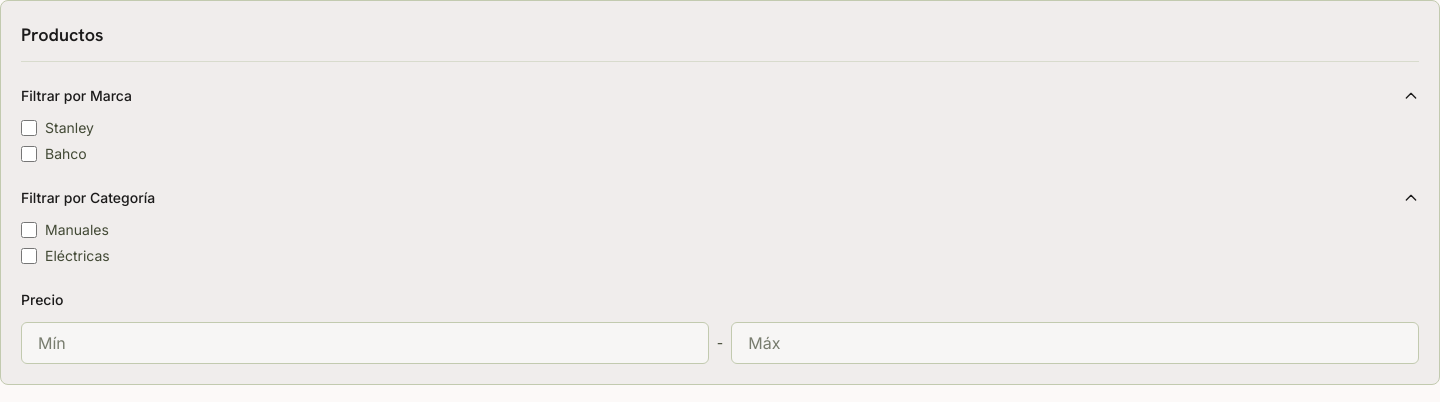
it: Filtrado › puede colapsar/expandir sección de marcas
Expected: the text "Stanley" is shown, [21,119,94,136]
Click the button "Filtrar por Marca": click(77, 96) [21,86,1419,106]
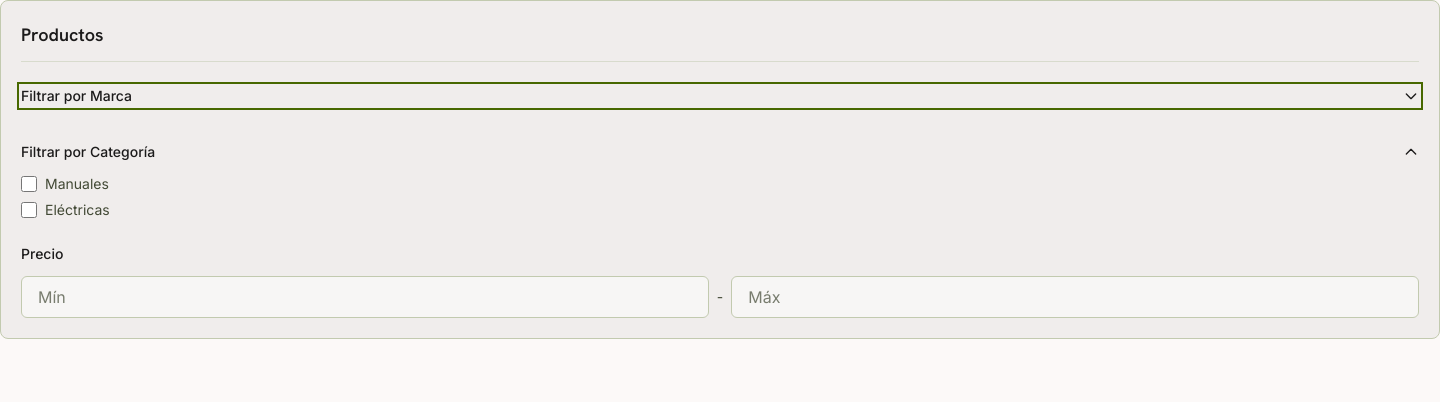
Now the text "Stanley" is gone
